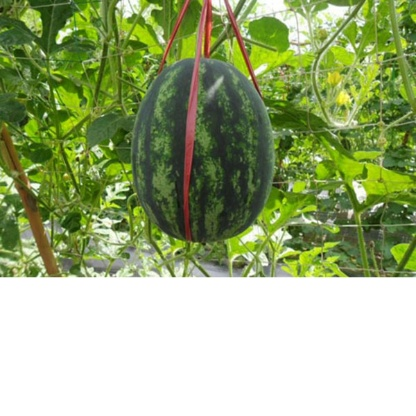duahau: (134, 38, 274, 236)
